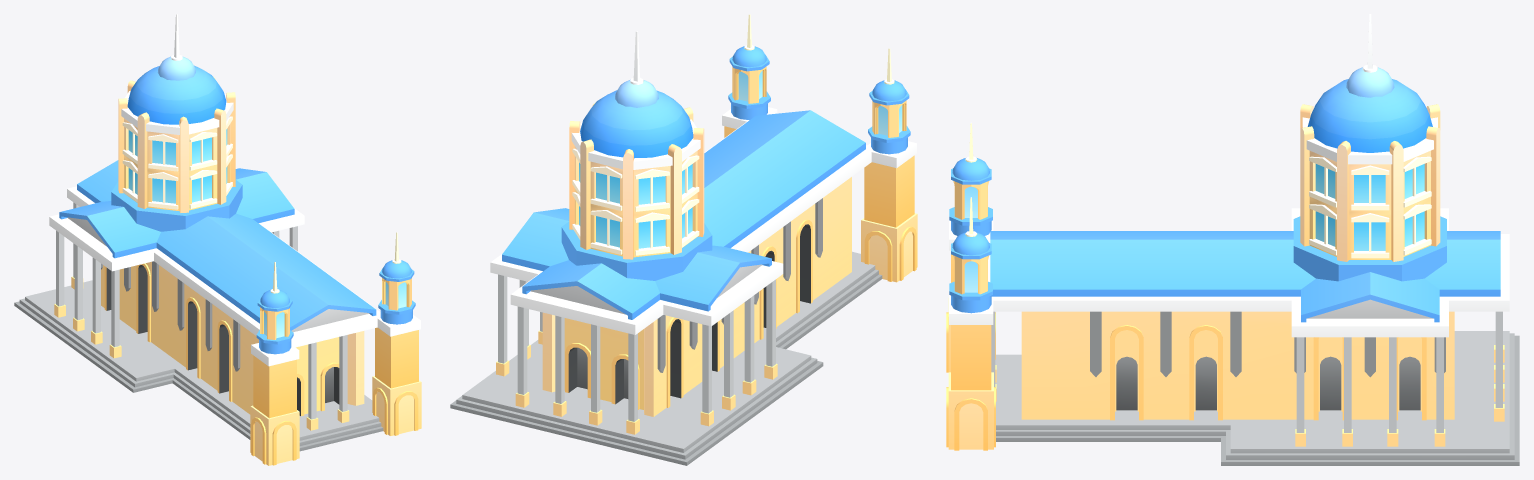
File: Building_Temple_03.glb
3 renders of one model, left to right at view 1: azimuth 30°, elevation 25°; view 2: azimuth 150°, elevation 25°; view 3: azimuth 270°, elevation 25°, orthographic. The views are drawn at different scales.
Parts seen in each view (by area): view 1: Building_Temple_03; view 2: Building_Temple_03; view 3: Building_Temple_03.
Boxes of the visible parts, x1,y1,x2,y2 form: Building_Temple_03: (14,14,421,465); Building_Temple_03: (450,14,917,465); Building_Temple_03: (946,14,1519,465).
Size of the model in its own units: 14.81 by 21.28 by 28.44.
1 material, 1 textured.
